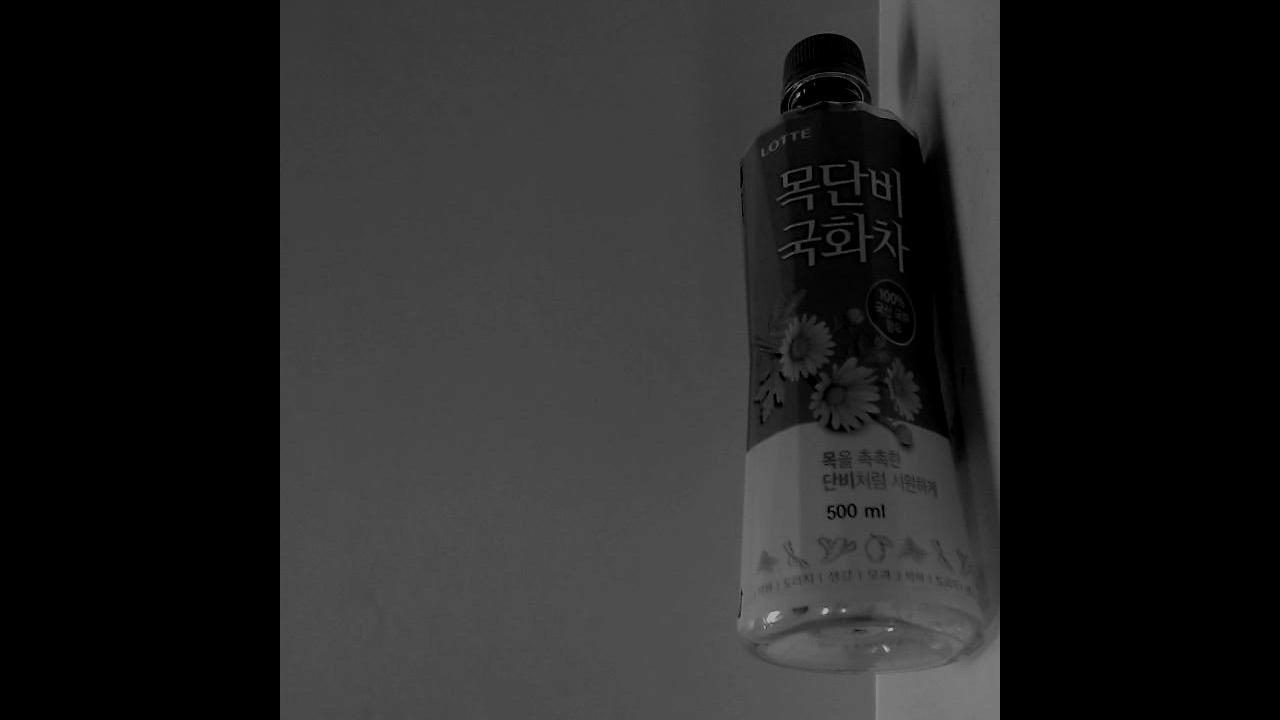bottle: (727, 30, 996, 689)
